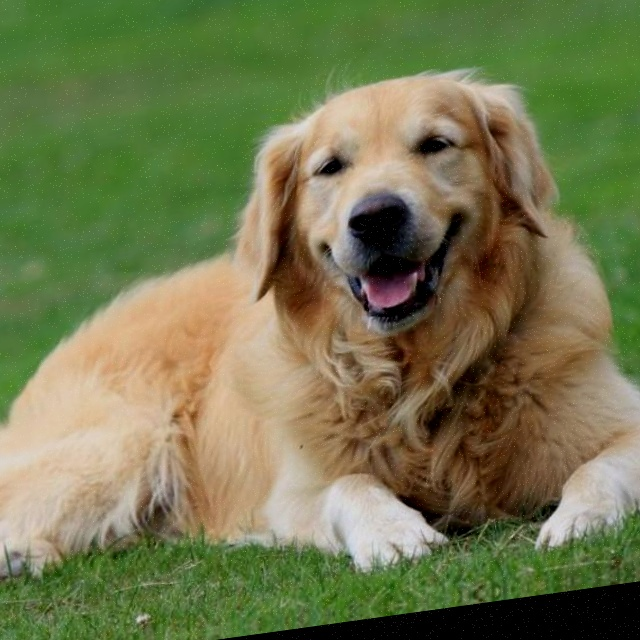dog: (0, 11, 640, 640)
